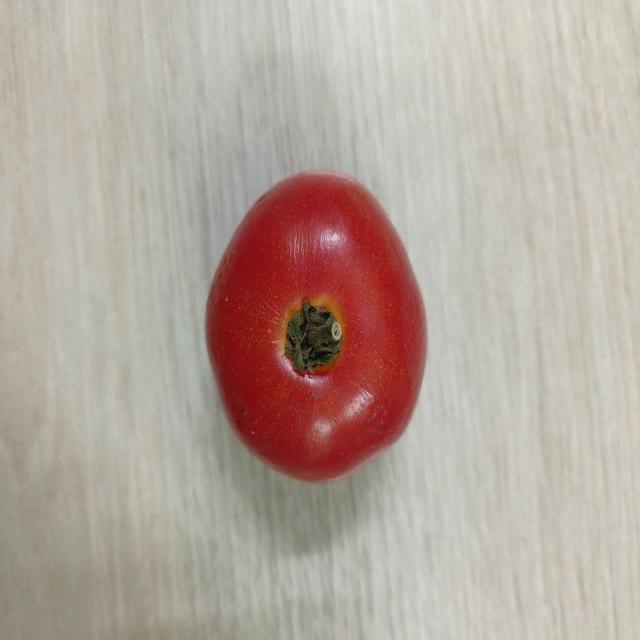Tomato: (201, 167, 430, 487)
